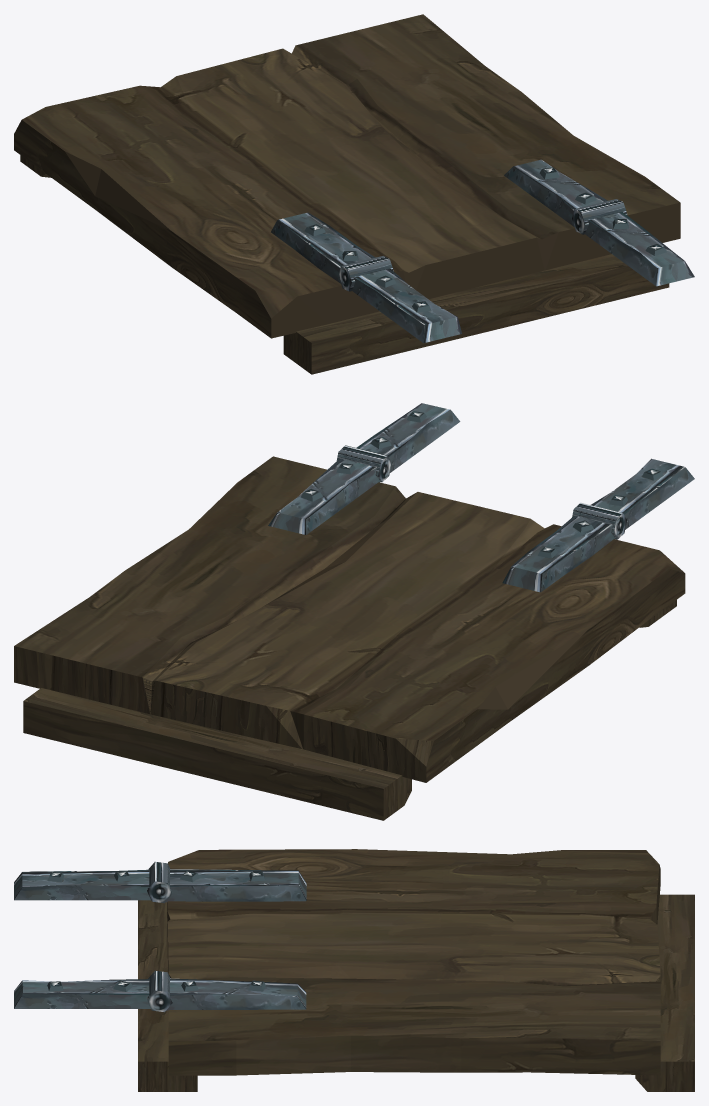
The model's file is Bar_Gate_01.fbx.
3 views of the same model, one above another, from view 1: azimuth 30°, elevation 25°; view 2: azimuth 150°, elevation 25°; view 3: azimuth 270°, elevation 25° (orthographic). The views are drawn at different scales.
Parts seen in each view (by area): view 1: SM_Prop_Bar_Gate_01_Door, SM_Prop_Bar_Gate_01; view 2: SM_Prop_Bar_Gate_01_Door, SM_Prop_Bar_Gate_01; view 3: SM_Prop_Bar_Gate_01_Door, SM_Prop_Bar_Gate_01.
Boxes of the visible parts, <box> form: SM_Prop_Bar_Gate_01_Door: <box>14,14,680,338</box>; SM_Prop_Bar_Gate_01: <box>20,155,694,374</box>; SM_Prop_Bar_Gate_01_Door: <box>14,456,685,782</box>; SM_Prop_Bar_Gate_01: <box>23,403,694,820</box>; SM_Prop_Bar_Gate_01_Door: <box>166,849,660,1075</box>; SM_Prop_Bar_Gate_01: <box>14,861,694,1091</box>.
Size of the model in its own units: 73.7 by 15.07 by 111.
